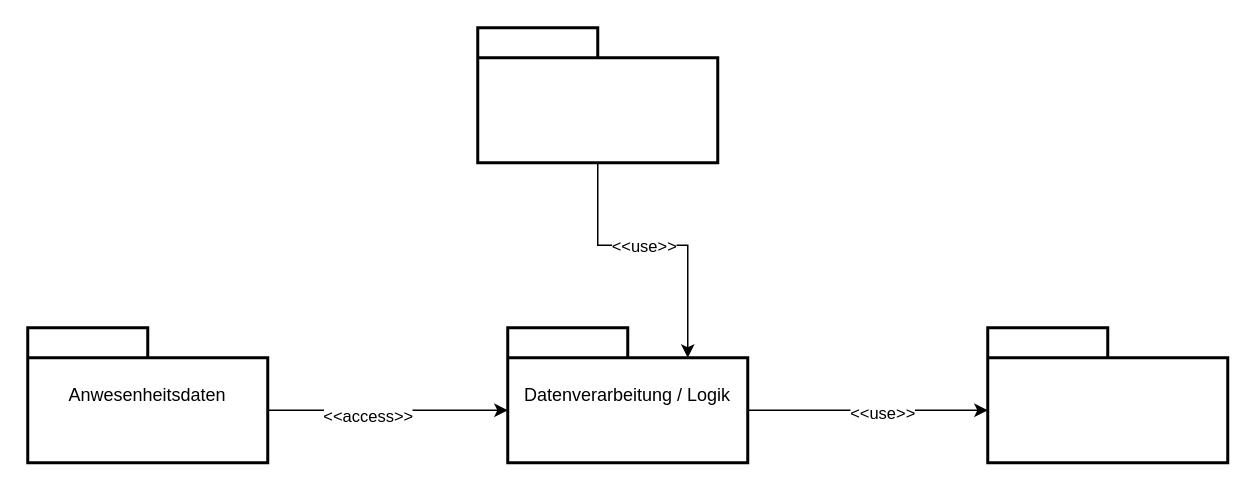
Some shapes in this 1254 by 489 pixel diagram are drawn without their labels. Here are the shapes that lost their labels. From the top down, the centre of each, then its label:
point 597,95: Benutzerauthentifizierung
point 1107,395: Anwesenheitsplaner GUI
